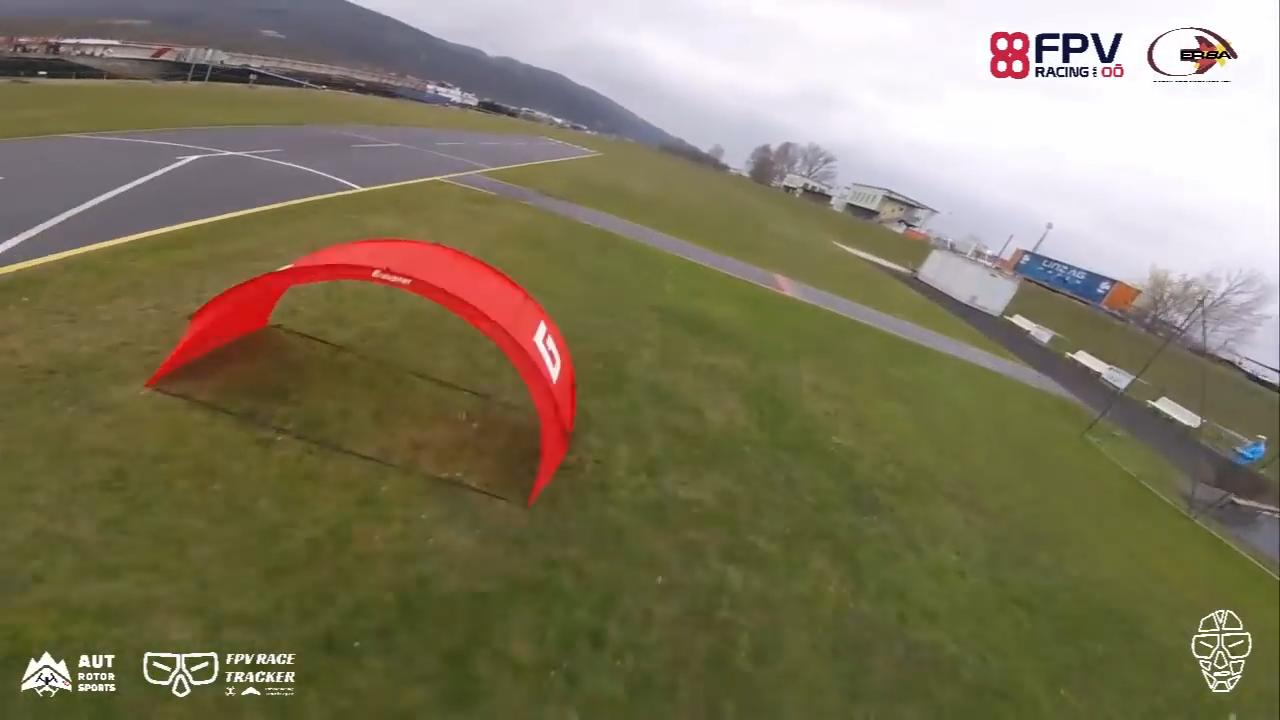gate: (136, 235, 584, 520)
